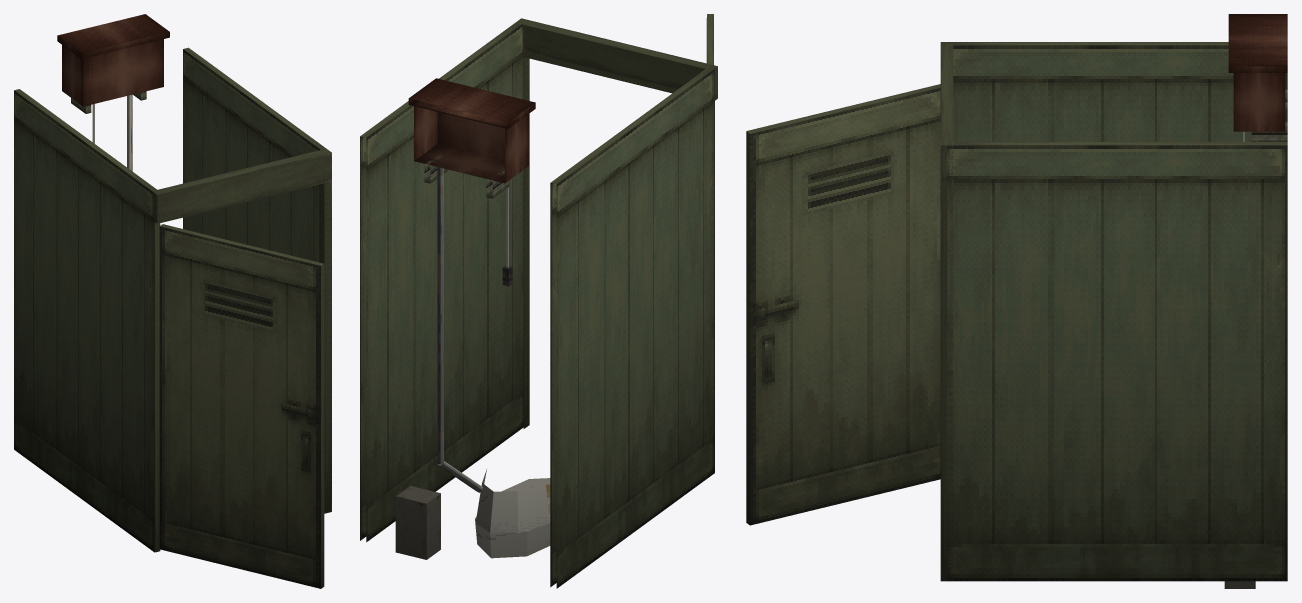
Rendered from prop_toilet_stall-2-end.glb.
The picture shows the model from 3 angles, left to right: view 1: azimuth 30°, elevation 25°; view 2: azimuth 150°, elevation 25°; view 3: azimuth 270°, elevation 25°; orthographic projection. The views are drawn at different scales.
Parts seen in each view (by area): view 1: prop_toilet_stall-2-end; view 2: prop_toilet_stall-2-end; view 3: prop_toilet_stall-2-end.
Boxes of the visible parts, x1,y1,x2,y2 form: prop_toilet_stall-2-end: [14, 14, 331, 588]; prop_toilet_stall-2-end: [360, 14, 717, 588]; prop_toilet_stall-2-end: [746, 14, 1287, 588].
Size of the model in its own units: 0.95 by 2.18 by 2.11.
Materials: 10 (10 with a texture image).
